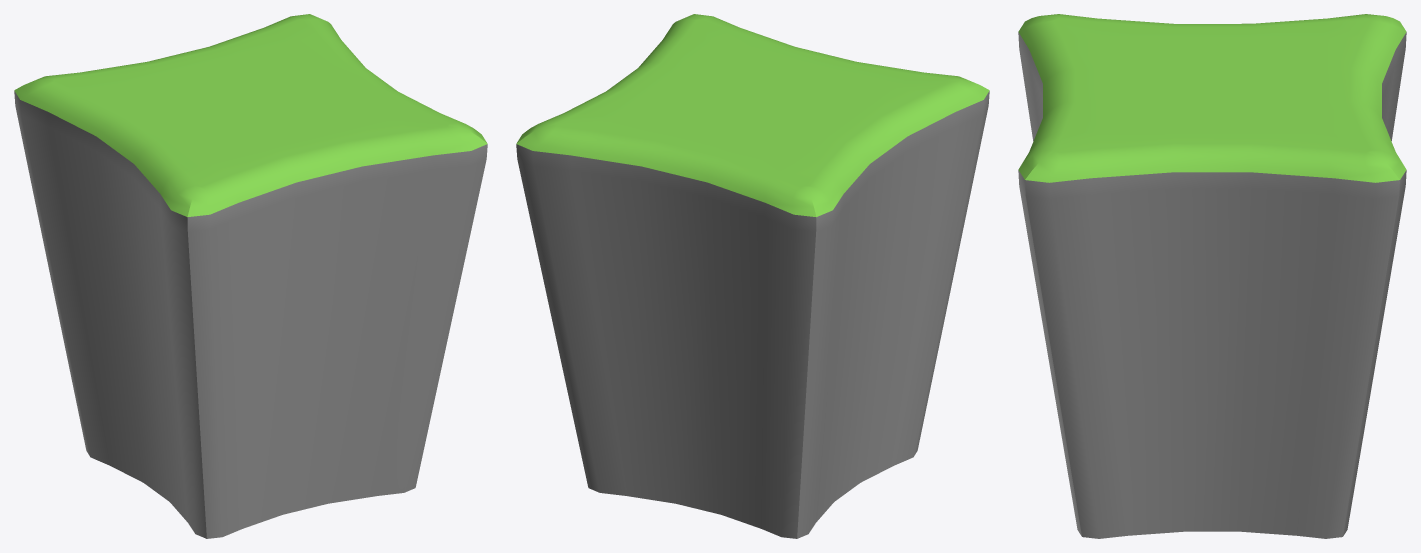
File: FlowerPot.fbx
3 views of the same model, side by side, from view 1: azimuth 30°, elevation 25°; view 2: azimuth 150°, elevation 25°; view 3: azimuth 270°, elevation 25° (orthographic). The views are drawn at different scales.
Parts seen in each view (by area): view 1: pasted__pCube4; view 2: pasted__pCube4; view 3: pasted__pCube4.
Part boxes in pixels (bbox=[...]): pasted__pCube4: bbox=[14, 14, 487, 538]; pasted__pCube4: bbox=[516, 14, 989, 538]; pasted__pCube4: bbox=[1018, 14, 1406, 538].
Bounding box in the file's own units: 253 × 285 × 253.
